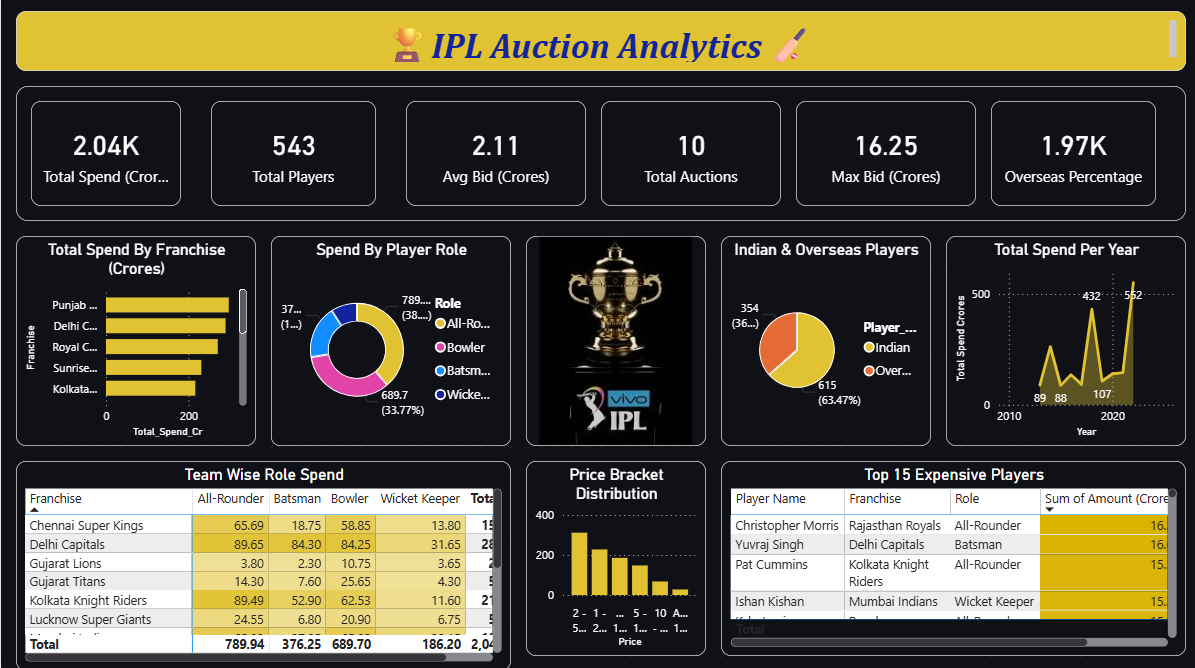

The page's visual inventory and layout, read from the dashboard file:
{"tool":"powerbi","page":{"name":"OverView","canvas":[1280,720],"ordinal":0},"visuals":[{"type":"textbox","box":[16,96,1248,144],"z":0},{"type":"card","fields":{"Values":["ipl ipl_ac.Total_Auctions"]},"box":[640,112,192,112],"z":1000},{"type":"card","fields":{"Values":["ipl ipl_ac.Max_Bid_cr"]},"box":[848,112,192,112],"z":2000},{"type":"textbox","title":"IPL","box":[16,16,1248,64],"z":3000},{"type":"card","fields":{"Values":["ipl ipl_ac.Overseas Percentage"]},"box":[1056,112,176,112],"z":4000},{"type":"clusteredBarChart","title":"Total Spend By Franchise (Crores)","fields":{"Category":["ipl ipl_ac.Franchise"],"Y":["ipl ipl_ac.Total_Spend_Cr"]},"box":[16,256,256,224],"z":5000},{"type":"donutChart","title":"Spend By Player Role","fields":{"Category":["ipl ipl_ac.Role"],"Y":["ipl ipl_ac.Total_Spend_Cr"]},"box":[288,256,256,224],"z":6000},{"type":"pieChart","title":"Indian & Overseas Players","fields":{"Category":["ipl ipl_ac.Player_Origin"],"Y":["CountNonNull(ipl ipl_ac.Player_Name)"]},"box":[768,256,224,224],"z":7000},{"type":"lineChart","title":"Total Spend Per Year","fields":{"Category":["ipl ipl_ac.year"],"Y":["ipl ipl_ac.Total_Spend_Cr"]},"box":[1008,256,256,224],"z":8000},{"type":"image","box":[560,256,192,224],"z":9000},{"type":"pivotTable","title":"Team Wise Role Spend ","fields":{"Rows":["ipl ipl_ac.Franchise"],"Columns":["ipl ipl_ac.Role"],"Values":["ipl ipl_ac.Total_Spend_Cr"]},"box":[16,496,528,224],"z":10000},{"type":"clusteredColumnChart","title":"Price Bracket Distribution","fields":{"Category":["Table.Column1"],"Y":["Sum(Table.Column2)"]},"box":[560,496,192,208],"z":11000},{"type":"card","fields":{"Values":["ipl ipl_ac.Total_Spend_Cr"]},"box":[32,112,160,112],"z":12000},{"type":"card","fields":{"Values":["ipl ipl_ac.Total_Players"]},"box":[224,112,176,112],"z":13000},{"type":"card","fields":{"Values":["ipl ipl_ac.Avg_Bid_Cr"]},"box":[432,112,192,112],"z":14000},{"type":"tableEx","title":"Top 15 Expensive Players","fields":{"Values":["ipl ipl_ac.Player_Name","ipl ipl_ac.Franchise","ipl ipl_ac.Role","ipl ipl_ac.Amount_Cr","ipl ipl_ac.Player_Origin"]},"box":[768,496,496,208],"z":15000}]}

Visuals, with their boxes in screenshot pixels (x1, y1, x2, y2), scaled from the page's 1280x720 canvas onto the 1195x668 screenshot:
textbox: <region>15, 89, 1180, 223</region>
card - ipl ipl_ac.Total_Auctions: <region>598, 104, 777, 208</region>
card - ipl ipl_ac.Max_Bid_cr: <region>792, 104, 971, 208</region>
"IPL" textbox: <region>15, 15, 1180, 74</region>
card - ipl ipl_ac.Overseas Percentage: <region>986, 104, 1150, 208</region>
"Total Spend By Franchise (Crores)" clusteredBarChart: <region>15, 238, 254, 445</region>
"Spend By Player Role" donutChart: <region>269, 238, 508, 445</region>
"Indian & Overseas Players" pieChart: <region>717, 238, 926, 445</region>
"Total Spend Per Year" lineChart: <region>941, 238, 1180, 445</region>
image: <region>523, 238, 702, 445</region>
"Team Wise Role Spend " pivotTable: <region>15, 460, 508, 667</region>
"Price Bracket Distribution" clusteredColumnChart: <region>523, 460, 702, 653</region>
card - ipl ipl_ac.Total_Spend_Cr: <region>30, 104, 179, 208</region>
card - ipl ipl_ac.Total_Players: <region>209, 104, 373, 208</region>
card - ipl ipl_ac.Avg_Bid_Cr: <region>403, 104, 583, 208</region>
"Top 15 Expensive Players" tableEx: <region>717, 460, 1180, 653</region>
